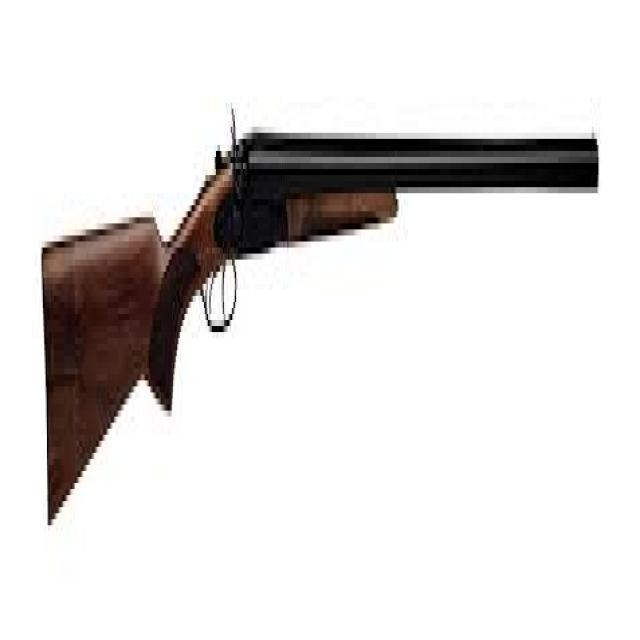rifle: (39, 77, 605, 547)
